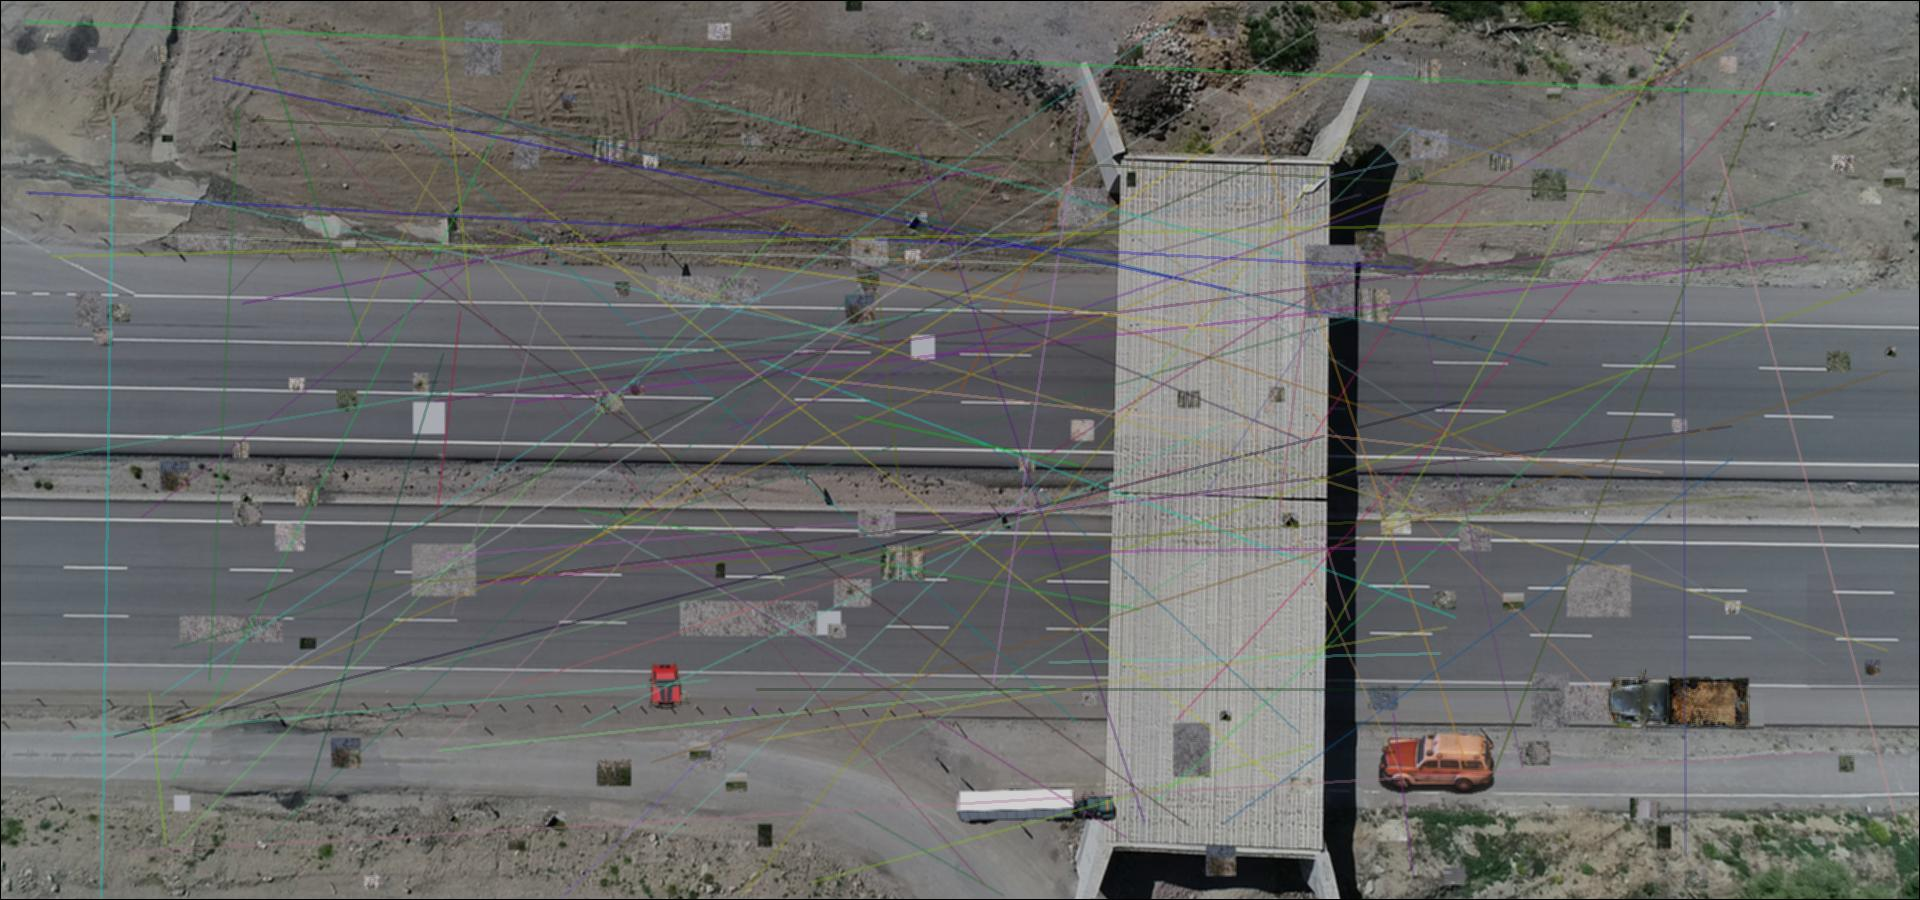arac: (1607, 666, 1753, 738), (1378, 733, 1496, 793), (954, 789, 1118, 825), (648, 662, 684, 711)
